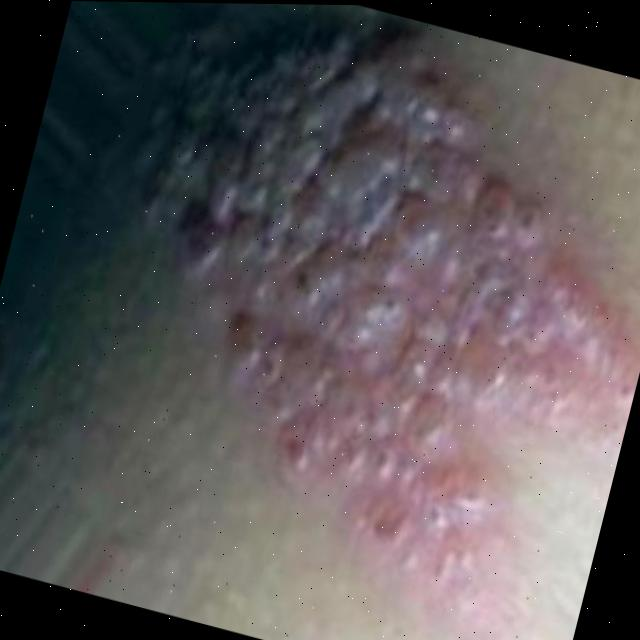Shingles: (66, 1, 640, 640)
